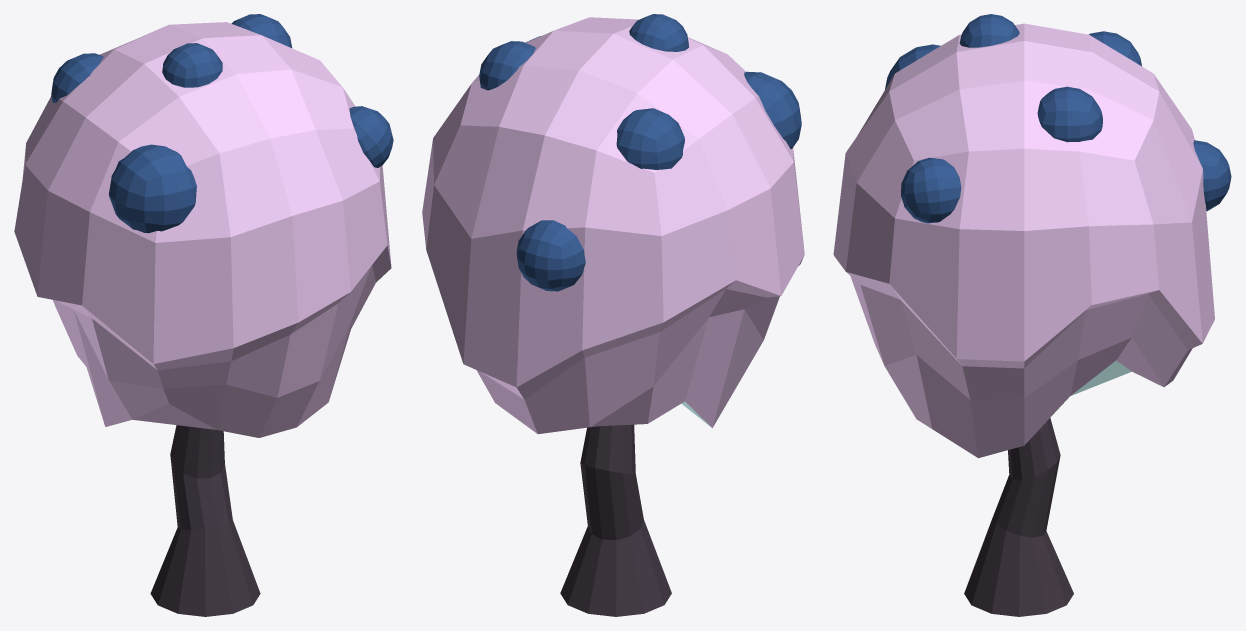
File: LowPolyTree.fbx
The picture shows the model from 3 angles, left to right: view 1: azimuth 30°, elevation 25°; view 2: azimuth 150°, elevation 25°; view 3: azimuth 270°, elevation 25°; orthographic projection.
Parts seen in each view (by area): view 1: Roundcube.006; view 2: Roundcube.006; view 3: Roundcube.006.
Boxes of the visible parts, left/top/right/bottom form: Roundcube.006: left=14, top=14, right=393, bottom=616; Roundcube.006: left=422, top=14, right=804, bottom=616; Roundcube.006: left=833, top=14, right=1231, bottom=616.
Size of the model in its own units: 447 by 729 by 467.
